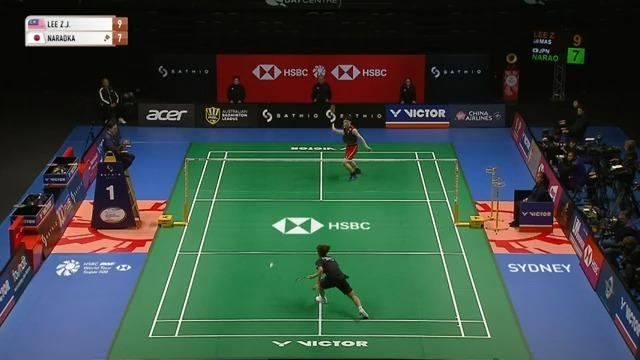Shuttlecock: (266, 260, 276, 270)
